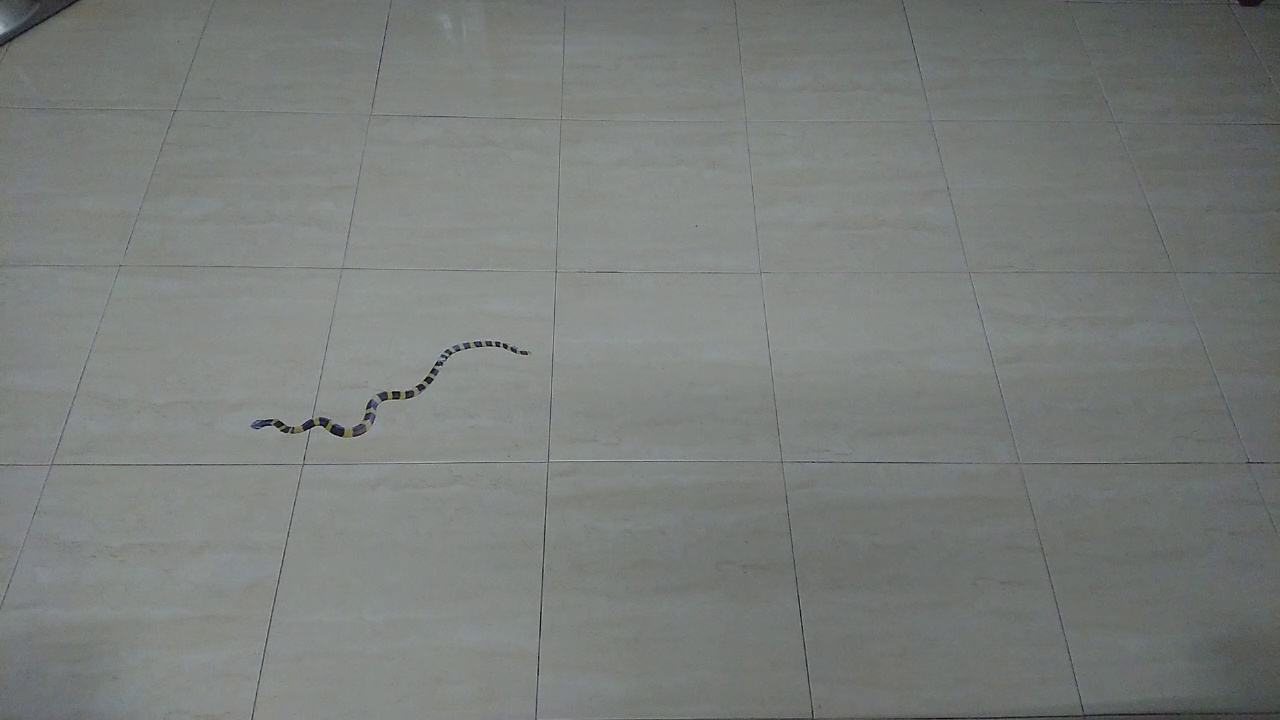snake: (238, 318, 548, 454)
